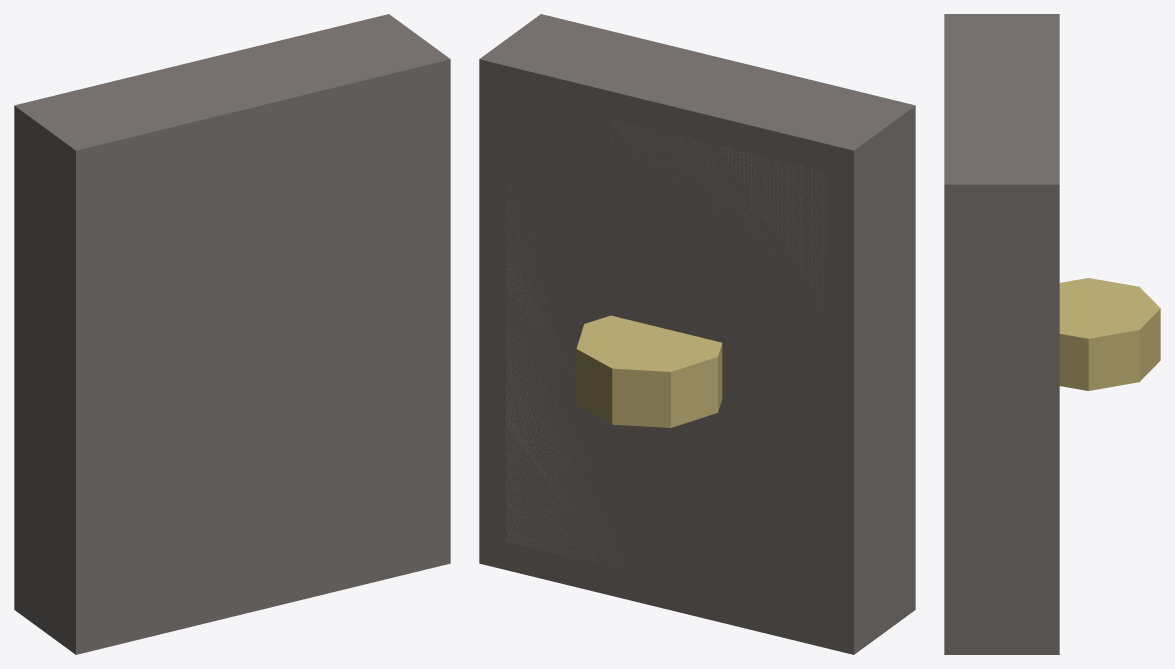
File: primer.glb
3 renders of one model, left to right at view 1: azimuth 30°, elevation 25°; view 2: azimuth 150°, elevation 25°; view 3: azimuth 270°, elevation 25°, orthographic. The views are drawn at different scales.
Parts seen in each view (by area): view 1: primer; view 2: primer; view 3: primer.
Part boxes in pixels (<box>): primer: <box>14,14,450,654</box>; primer: <box>479,14,915,654</box>; primer: <box>944,14,1160,654</box>.
Bounding box in the file's own units: 0.14 × 0.18 × 0.075.
